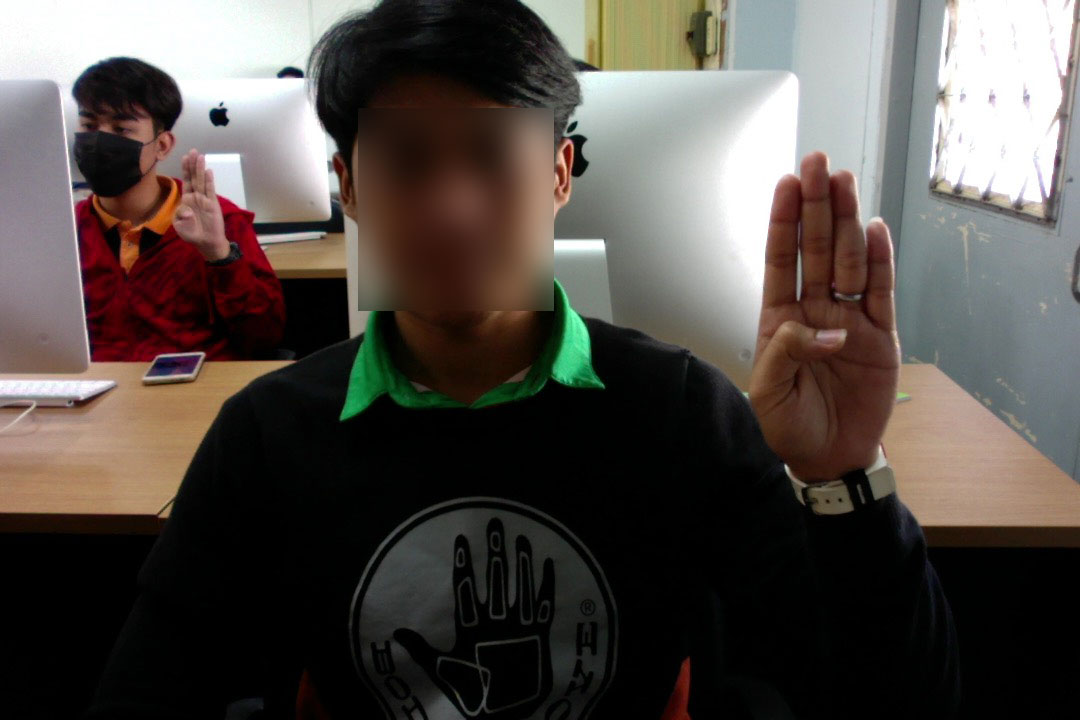bor: (743, 145, 906, 483)
